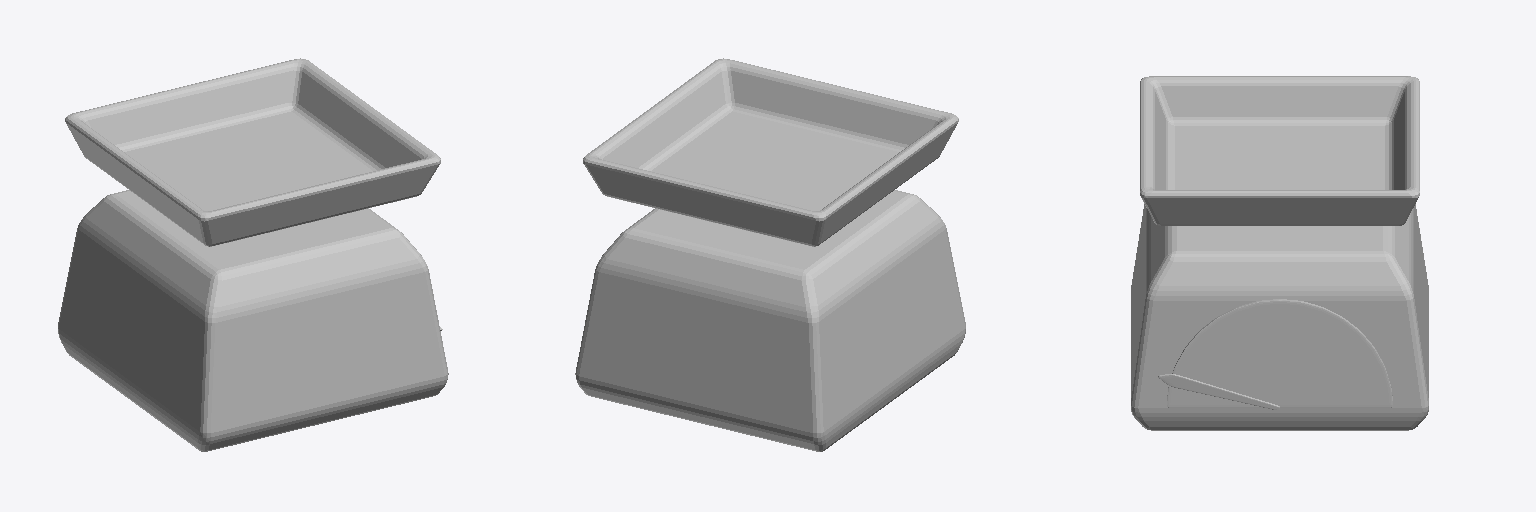
The model's file is scale_empty.obj.
3 renders of one model, left to right at view 1: azimuth 30°, elevation 25°; view 2: azimuth 150°, elevation 25°; view 3: azimuth 270°, elevation 25°, orthographic.
Parts seen in each view (by area): view 1: corpo_Cube.001, apoio_Cube.008; view 2: corpo_Cube.001, apoio_Cube.008; view 3: apoio_Cube.008, corpo_Cube.001, Cylinder, ponteiro_vazio_Cube.004.
Boxes of the visible parts, <box> form: corpo_Cube.001: <box>58,190,448,451</box>; apoio_Cube.008: <box>65,58,440,246</box>; corpo_Cube.001: <box>575,190,965,451</box>; apoio_Cube.008: <box>583,58,958,246</box>; apoio_Cube.008: <box>1140,76,1419,225</box>; corpo_Cube.001: <box>1131,204,1428,430</box>; Cylinder: <box>1167,299,1392,407</box>; ponteiro_vazio_Cube.004: <box>1158,374,1279,409</box>.
Bounding box in the file's own units: 0.9595 × 0.8713 × 0.9794.